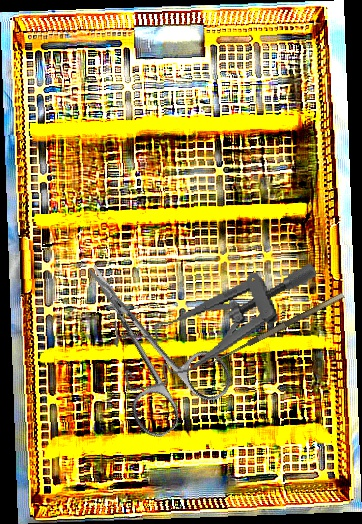Hook Surgical: (203, 292, 349, 376)
Iris Scissors: (50, 234, 240, 445)
Speculum: (105, 258, 333, 396)
